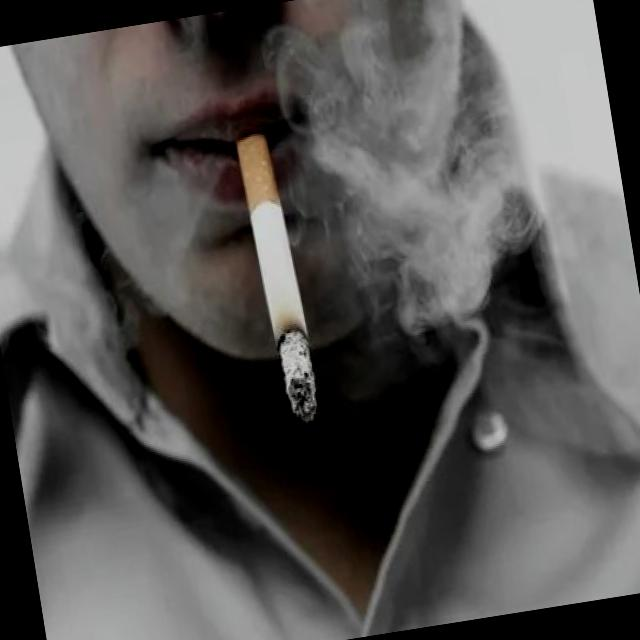cigarette: (228, 125, 328, 428)
